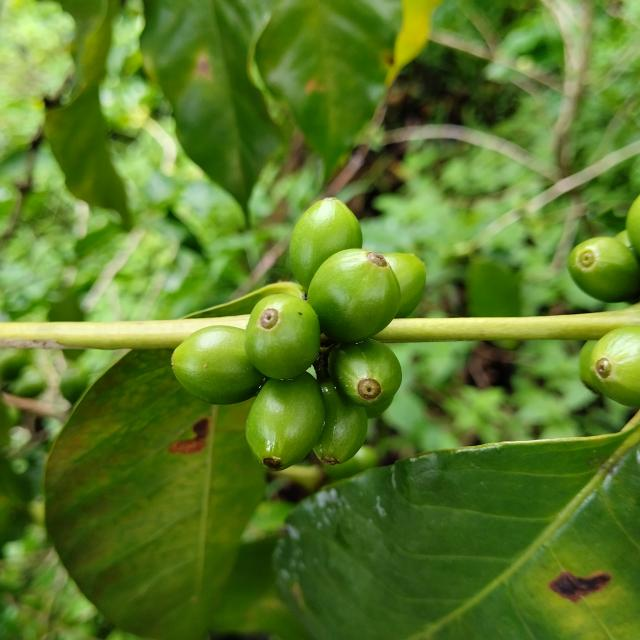green: (308, 248, 401, 343), (245, 372, 325, 471), (171, 326, 265, 405), (290, 197, 363, 289), (245, 294, 321, 380), (328, 339, 402, 407), (313, 378, 368, 466), (569, 237, 640, 302), (592, 326, 640, 408), (383, 253, 426, 318), (580, 340, 602, 395)
